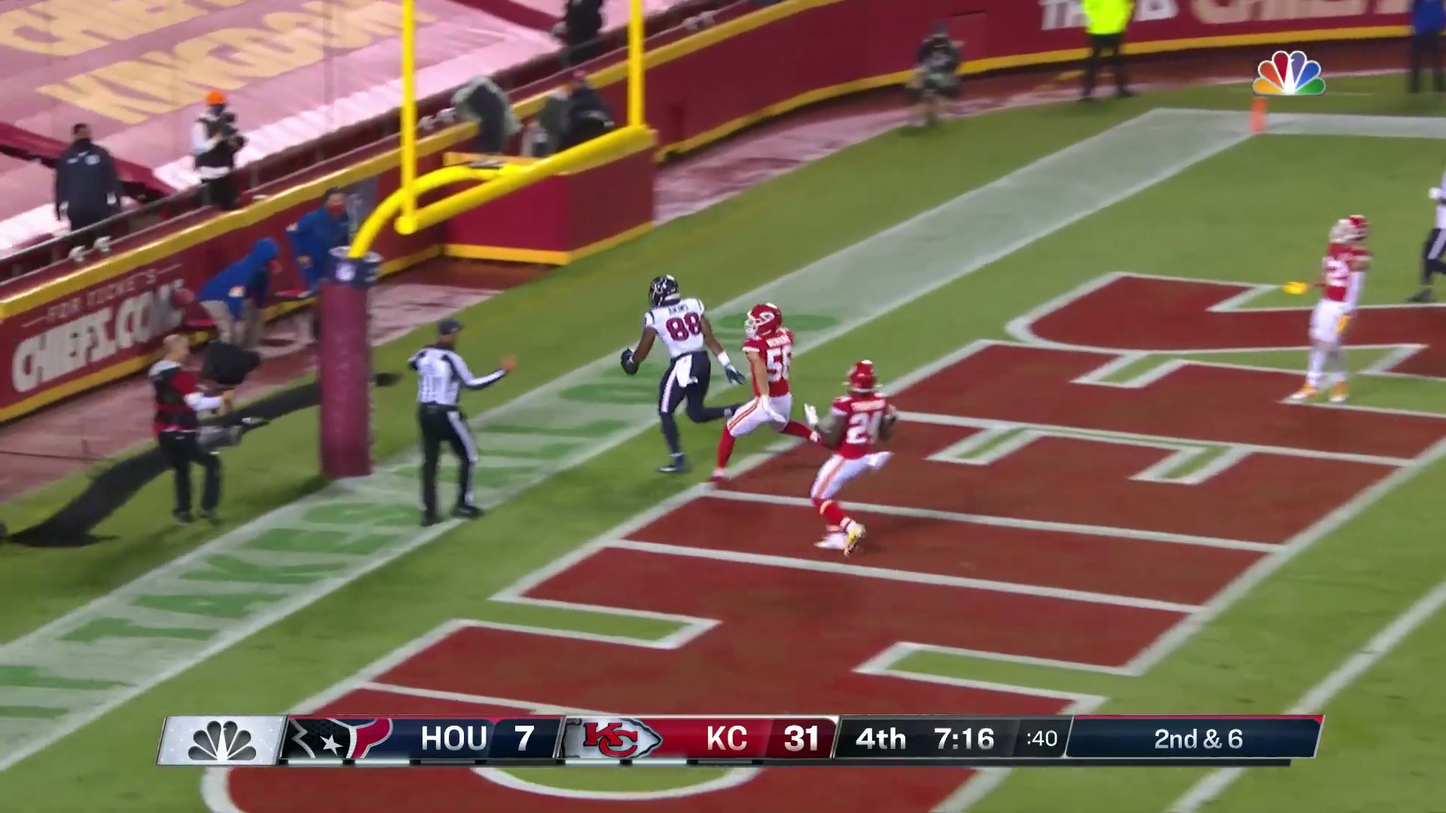Player: (722, 303, 794, 440), (1320, 215, 1372, 335), (1422, 169, 1446, 288)
